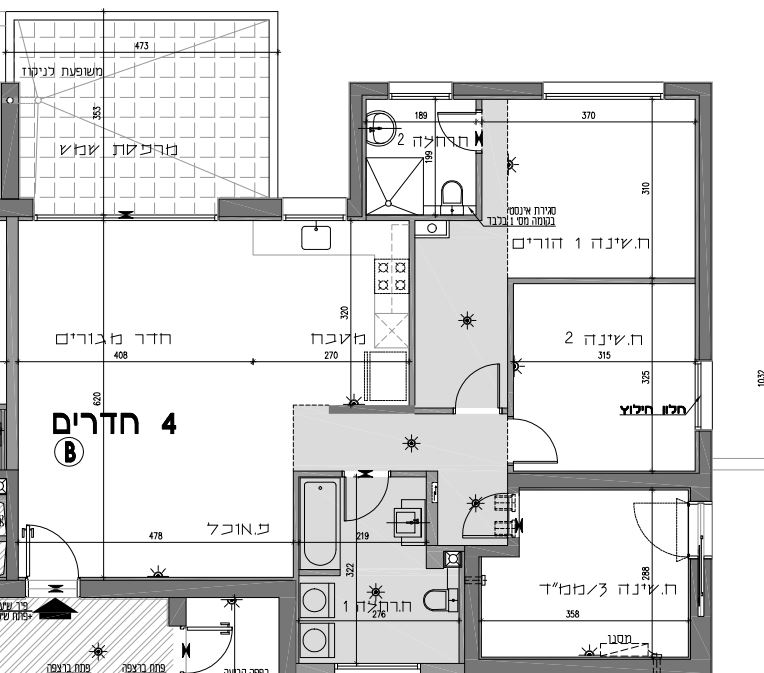door: (616, 494, 673, 557), (520, 409, 564, 468), (23, 524, 79, 567), (447, 361, 503, 402), (457, 488, 492, 541), (342, 482, 388, 522)
wall: (700, 89, 708, 353), (86, 584, 278, 595), (482, 660, 641, 673), (353, 86, 360, 206), (455, 86, 539, 94)
window: (541, 76, 664, 107), (32, 211, 221, 224), (281, 193, 348, 225), (690, 359, 718, 430), (387, 77, 452, 105)
